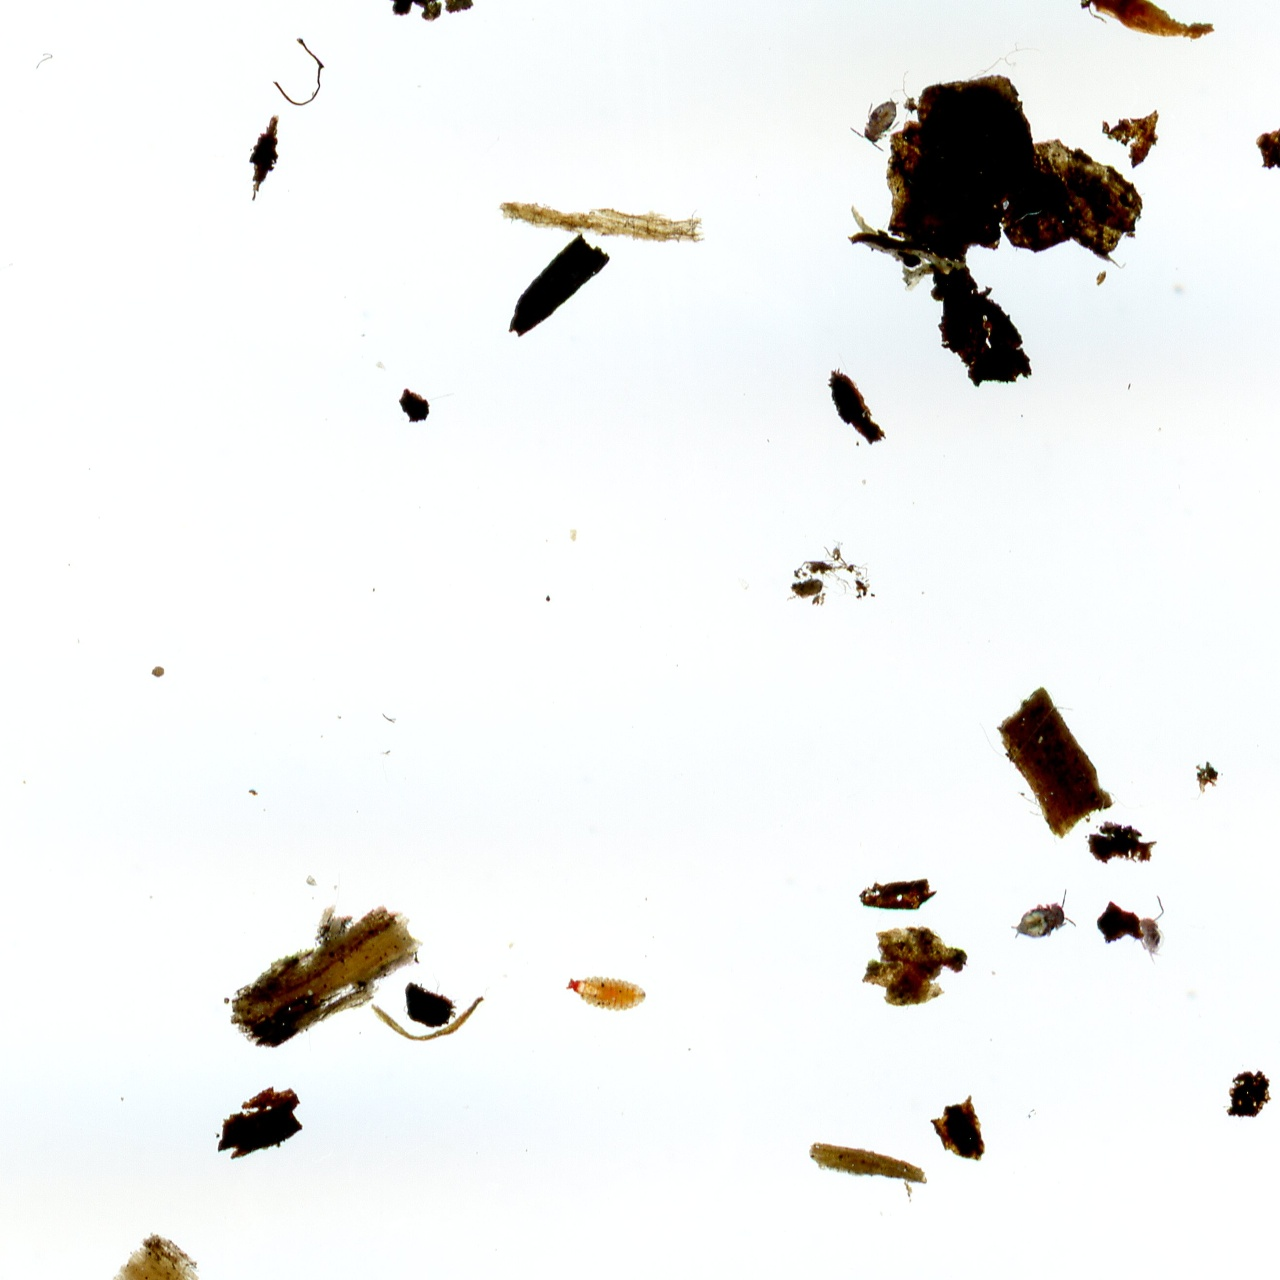arthropod: (1001, 884, 1084, 953), (844, 83, 914, 158), (565, 973, 648, 1014), (1132, 893, 1167, 966)
